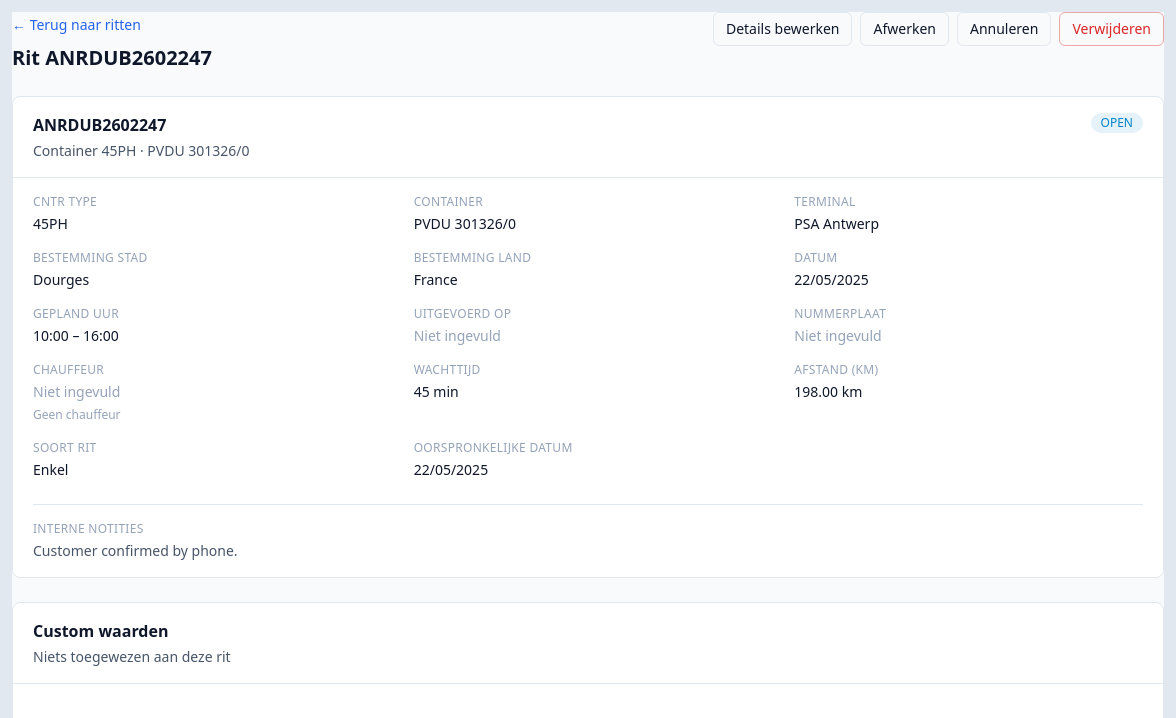
Test: Trip management › changing status › leaves the trip unchanged on screen when the backend refuses
Click the button "Annuleren" at (1004, 29), box [957,12,1051,46]
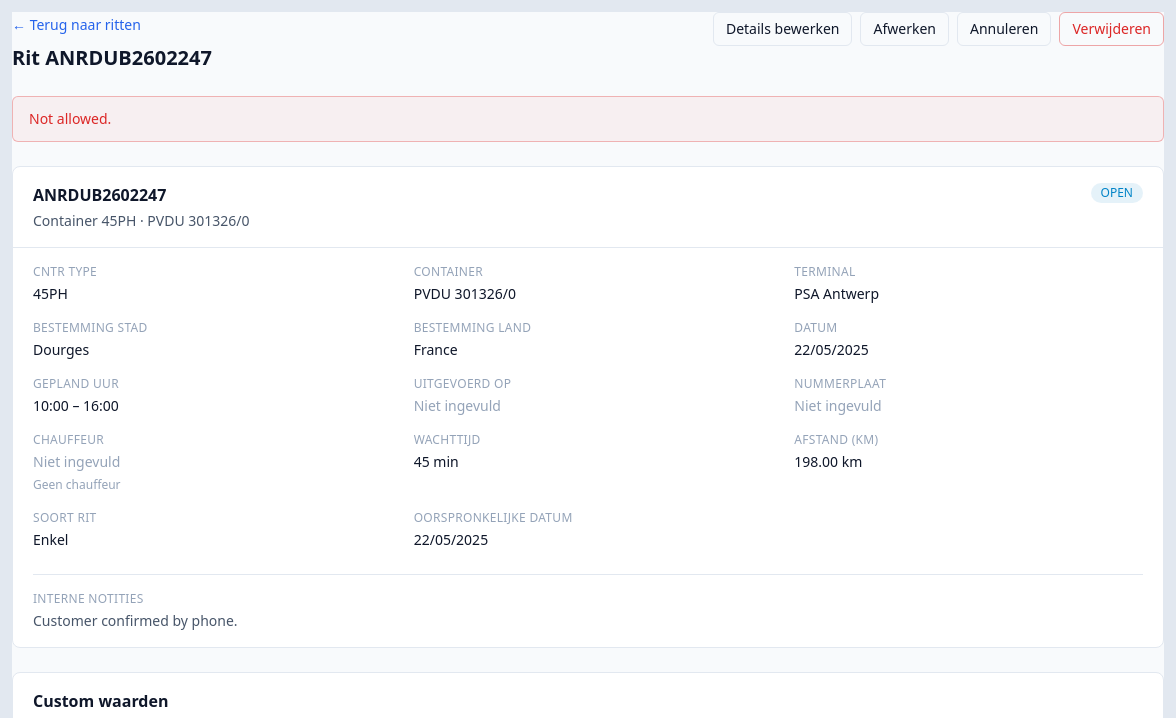
expect the text "OPEN" is shown: met, box [1091,183,1143,203]
expect the message "Not allowed." is shown: met, box [12,96,1164,142]
